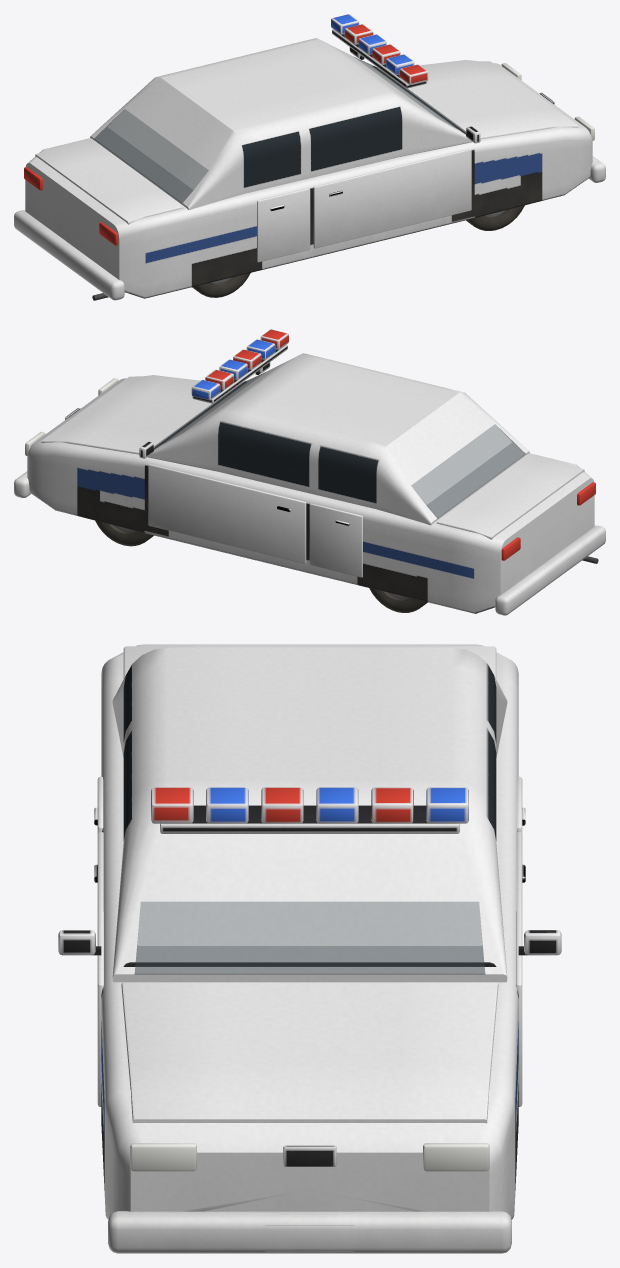
The model's file is policia-sedan.glb.
The picture shows the model from 3 angles, top to bottom: view 1: azimuth 30°, elevation 25°; view 2: azimuth 150°, elevation 25°; view 3: azimuth 270°, elevation 25°; orthographic projection. The views are drawn at different scales.
Parts seen in each view (by area): view 1: body, door_fr, hood, trunk, glass_rear, door_rr, bumper_rear, glass_windshield, wheel_fr_tire, wheel_rr_tire; view 2: body, door_fl, hood, trunk, glass_rear, door_rl, bumper_rear, glass_windshield, wheel_fl_tire, wheel_rl_tire; view 3: body, hood, glass_windshield, bumper_front, headlight_left, headlight_right, door_fl, door_fr, trunk.
Boxes of the visible parts, x1=… form: body: x1=25, y1=14, x2=592, y2=300; door_fr: x1=313, y1=149, x2=471, y2=248; hood: x1=381, y1=61, x2=578, y2=139; trunk: x1=35, y1=139, x2=182, y2=224; glass_rear: x1=94, y1=109, x2=208, y2=203; door_rr: x1=257, y1=188, x2=310, y2=262; bumper_rear: x1=14, y1=210, x2=124, y2=300; glass_windshield: x1=354, y1=57, x2=466, y2=132; wheel_fr_tire: x1=466, y1=205, x2=524, y2=230; wheel_rr_tire: x1=192, y1=273, x2=250, y2=297; body: x1=27, y1=329, x2=598, y2=613; door_fl: x1=148, y1=464, x2=306, y2=563; hood: x1=41, y1=376, x2=238, y2=454; trunk: x1=436, y1=454, x2=584, y2=539; glass_rear: x1=411, y1=424, x2=525, y2=518; door_rl: x1=309, y1=503, x2=362, y2=577; bumper_rear: x1=495, y1=525, x2=605, y2=615; glass_windshield: x1=153, y1=372, x2=265, y2=447; wheel_fl_tire: x1=95, y1=520, x2=153, y2=546; wheel_rl_tire: x1=369, y1=588, x2=427, y2=612; body: x1=58, y1=644, x2=561, y2=1251; hood: x1=121, y1=982, x2=498, y2=1123; glass_windshield: x1=134, y1=902, x2=485, y2=974; bumper_front: x1=108, y1=1211, x2=511, y2=1253; headlight_left: x1=423, y1=1143, x2=489, y2=1171; headlight_right: x1=130, y1=1143, x2=196, y2=1171; door_fl: x1=516, y1=832, x2=525, y2=1106; door_fr: x1=94, y1=832, x2=103, y2=1106; trunk: x1=123, y1=646, x2=496, y2=678.
Size of what is drawn, in the model's own units: 5.19 by 1.65 by 2.27.
Materials: 6 (5 with a texture image).
